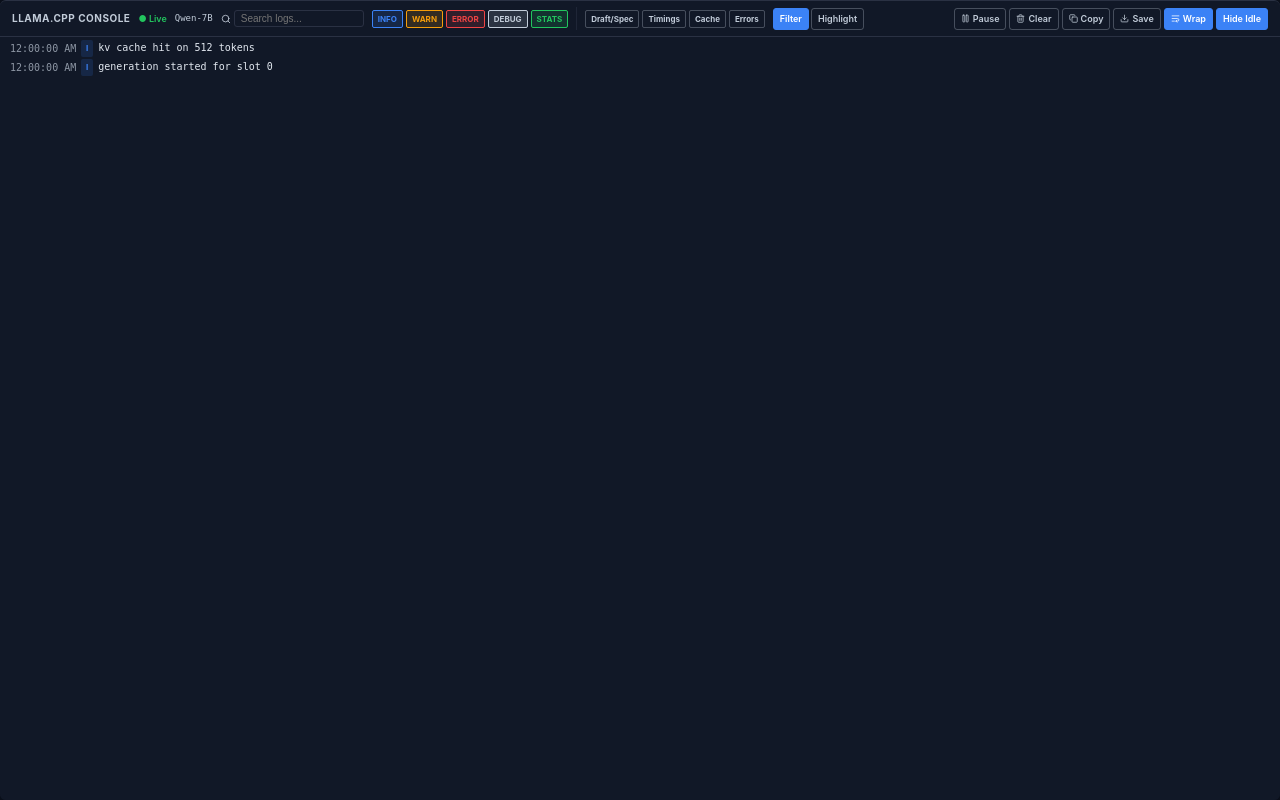
Test: LogConsole search and filter mode › filters logs by search query in Filter mode
Expected: the text "generation started for slot 0" is shown, x1=98 y1=61 x2=273 y2=72
Type "kv cache" into the search field labelled "Search logs" at (299, 18), box x1=234 y1=10 x2=364 y2=27
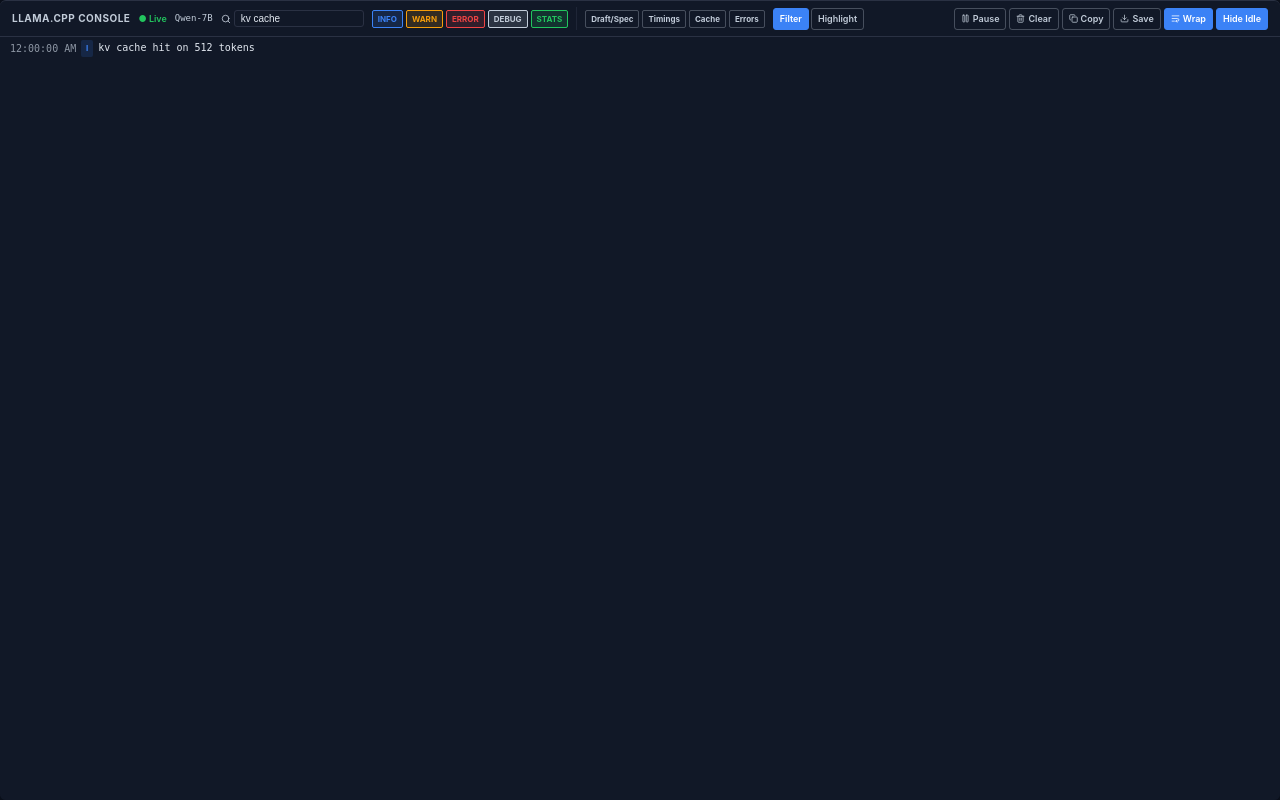
Expected: the text "kv cache hit on 512 tokens" is shown, x1=98 y1=42 x2=255 y2=53
Expected: the text "generation started for slot 0" is gone
